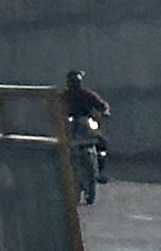BikeWithRider: (43, 66, 120, 206)
NoHelmet: (63, 67, 85, 91)
